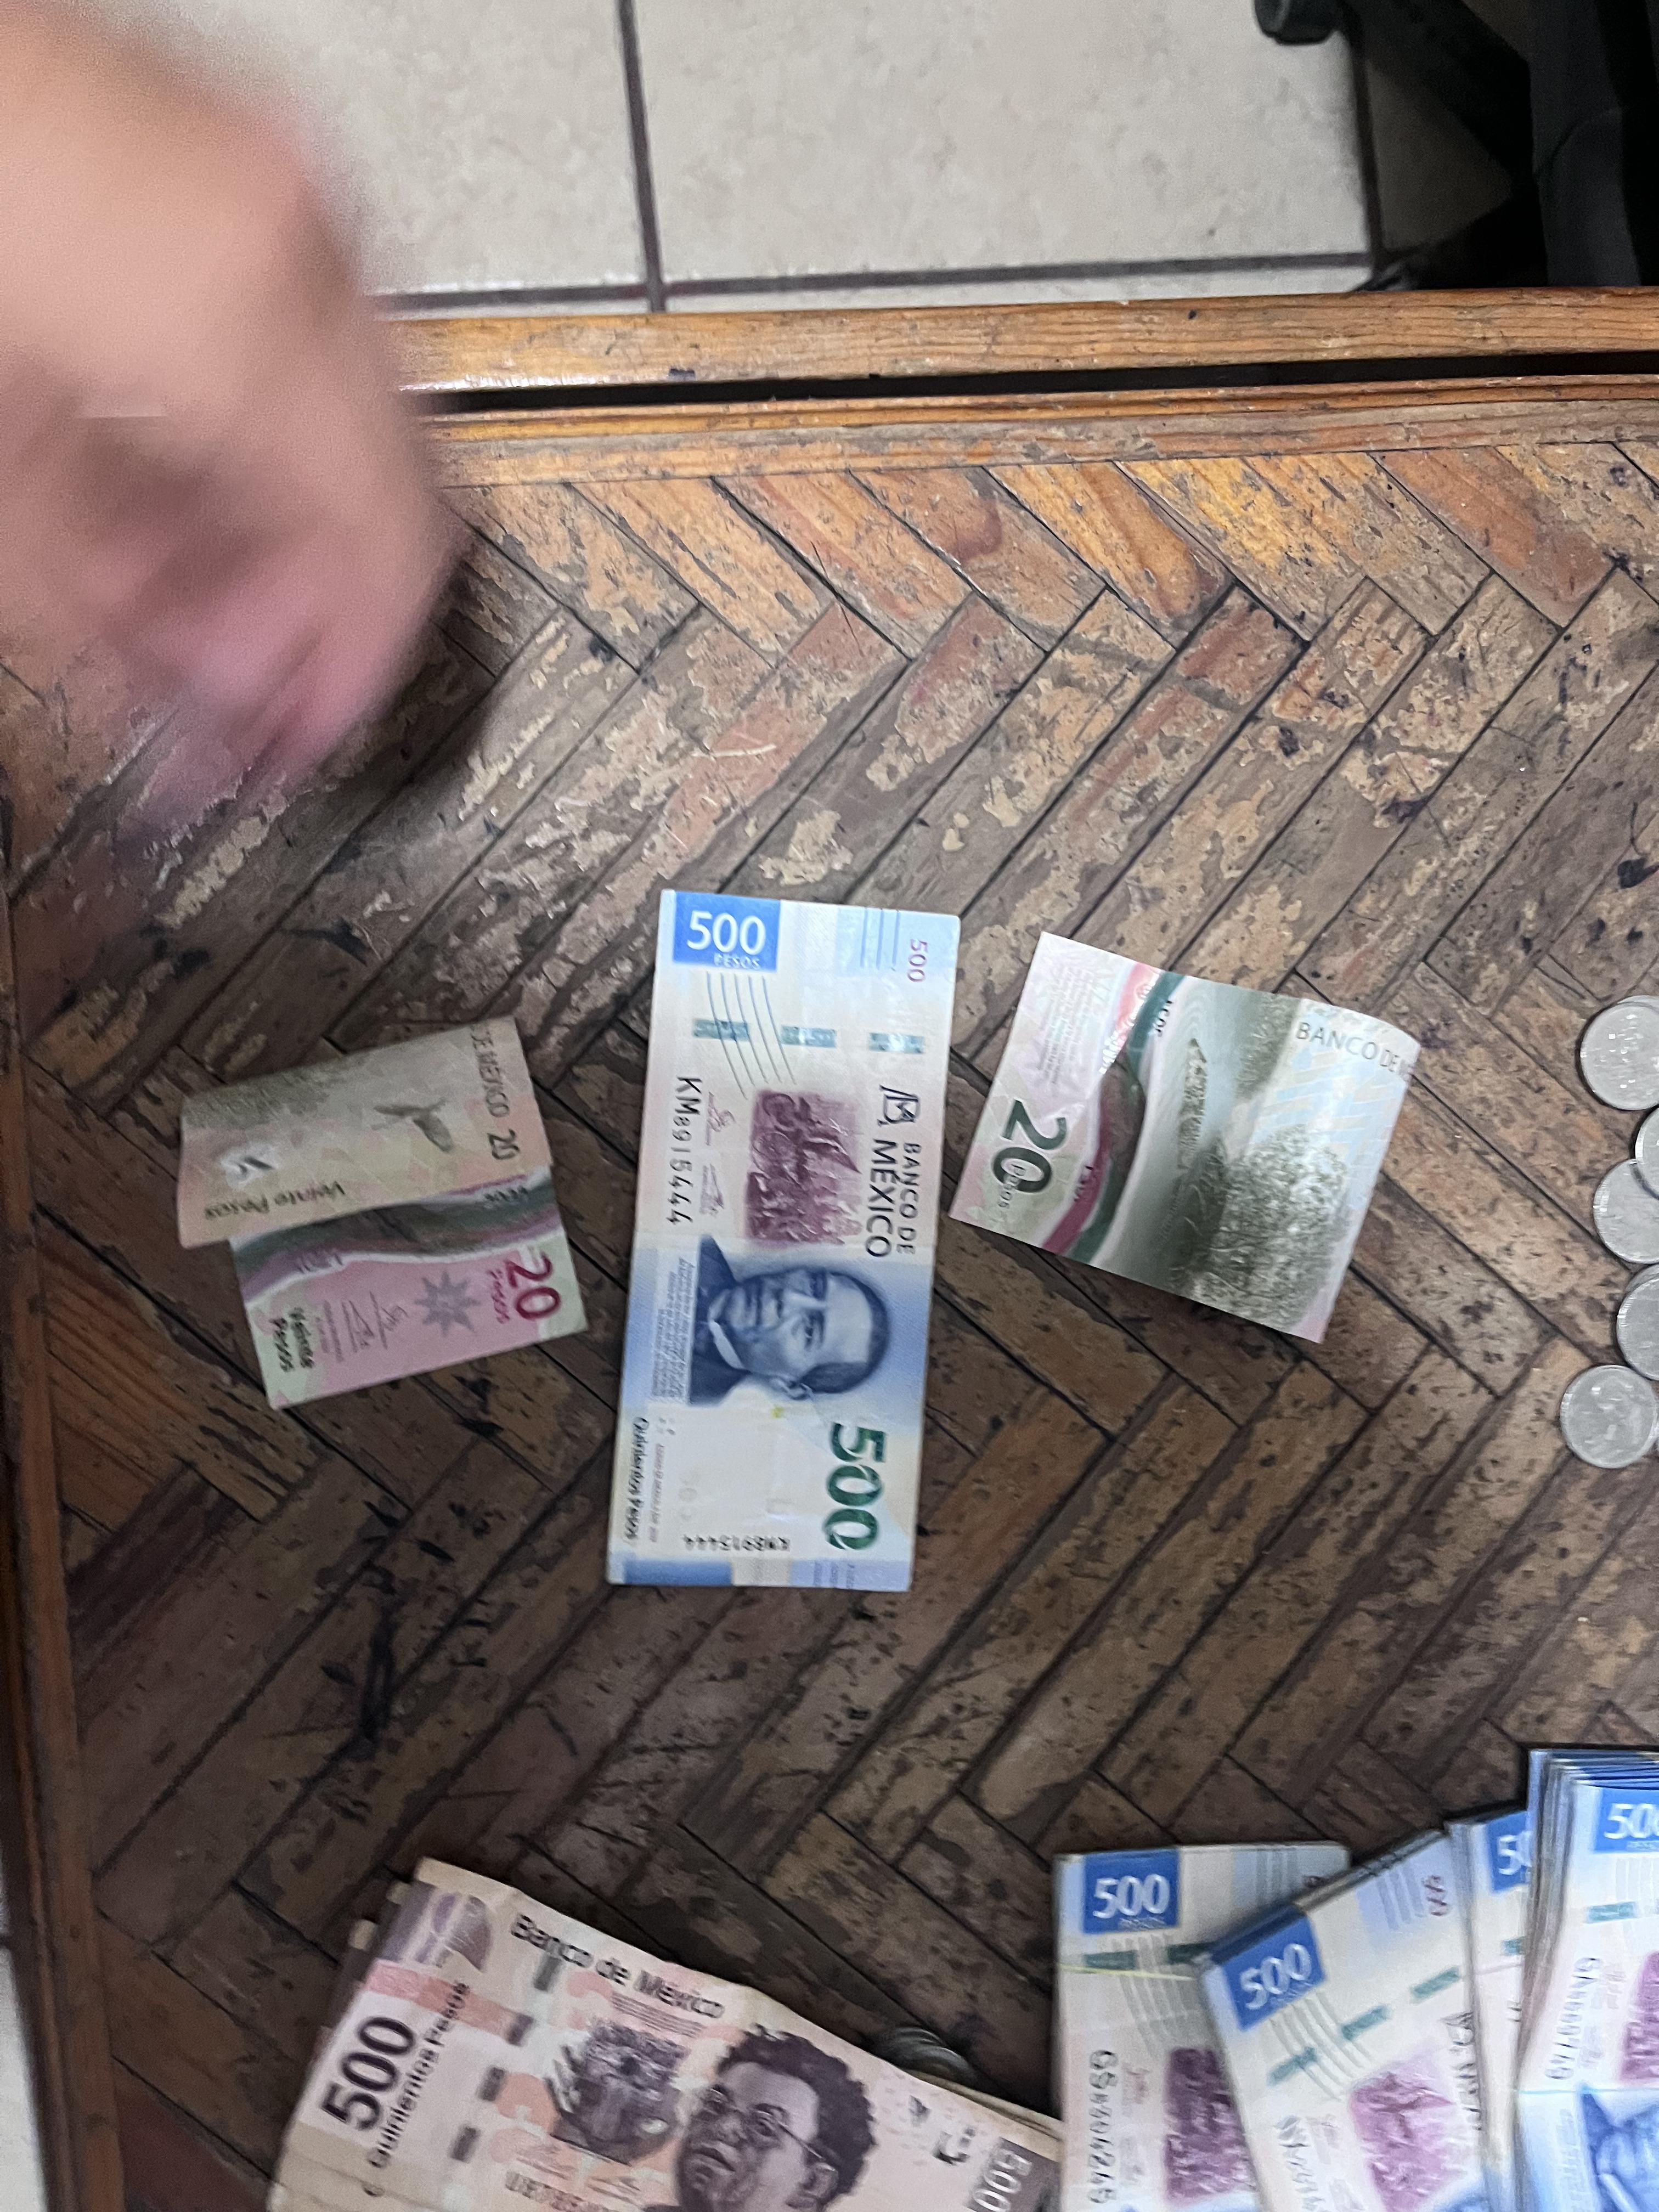20: (124, 946, 608, 1474), (943, 895, 1462, 1371)
500: (267, 1851, 1058, 2212)
500 nuevo: (599, 876, 964, 1604), (1204, 1822, 1527, 2212), (1056, 1838, 1351, 2212), (1469, 1742, 1659, 2212)
